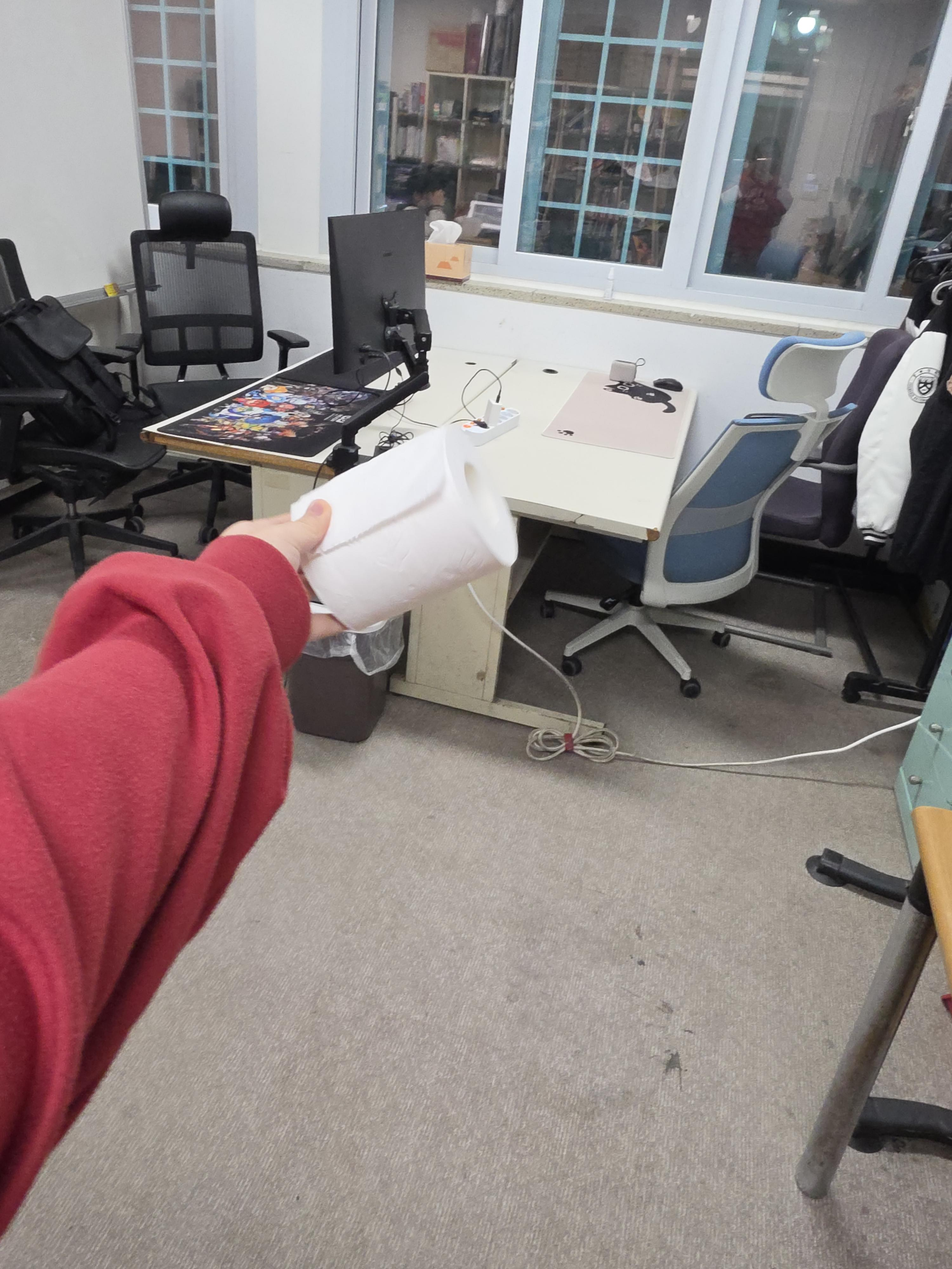tissue: (289, 424, 519, 631), (423, 219, 473, 283)
